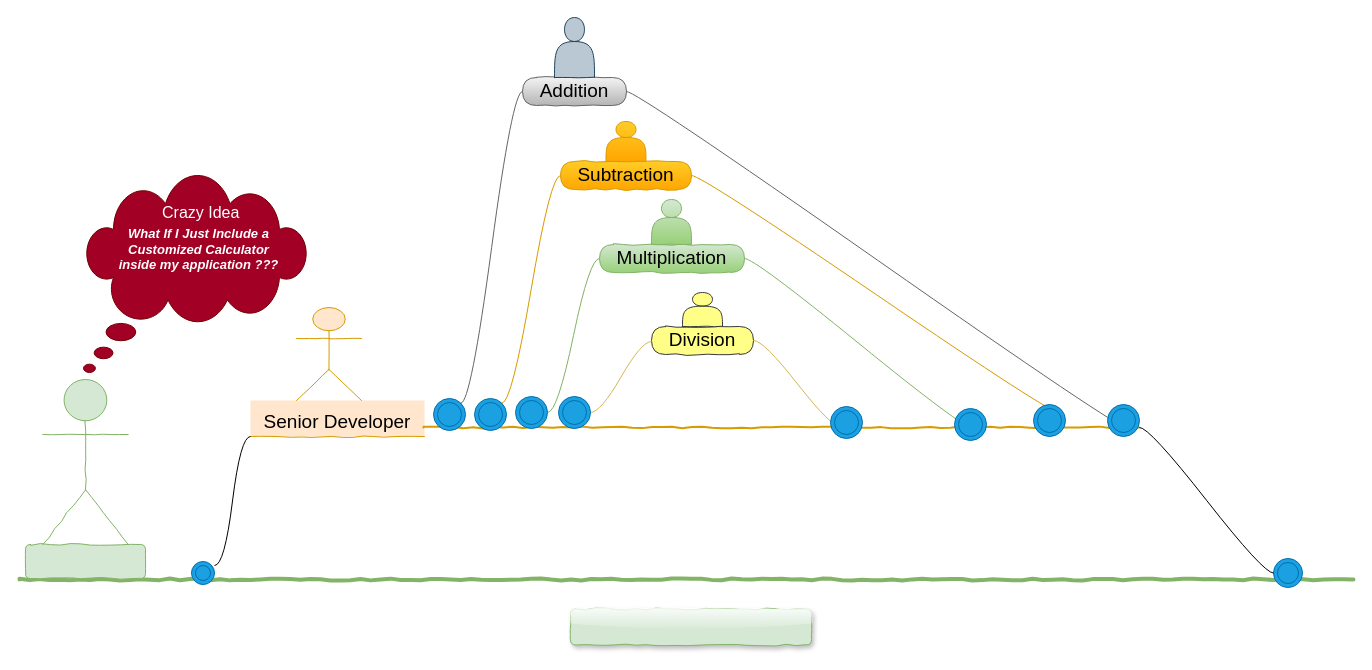
Image size: 1372x670. Some labels were removed from this diagram. Each missing label, with the centre of its shape:
"Git Branching" goes at (692,628).
"Master" goes at (85,561).
